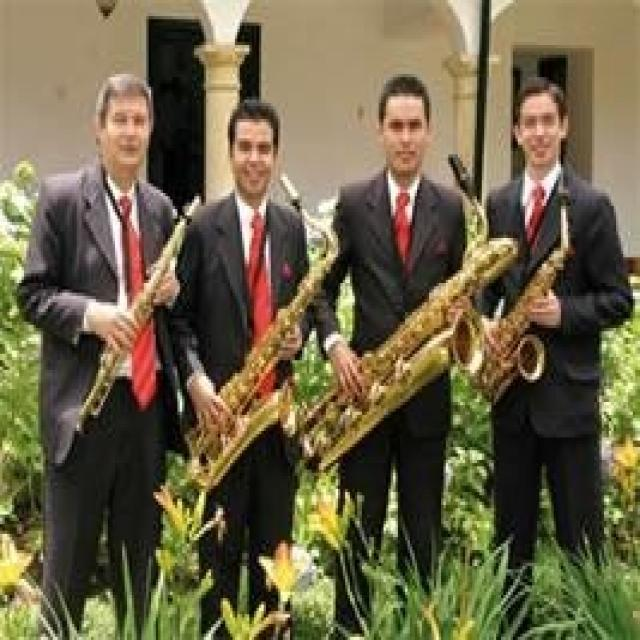saxophone: (295, 151, 519, 479), (187, 176, 340, 498), (465, 175, 577, 404)
